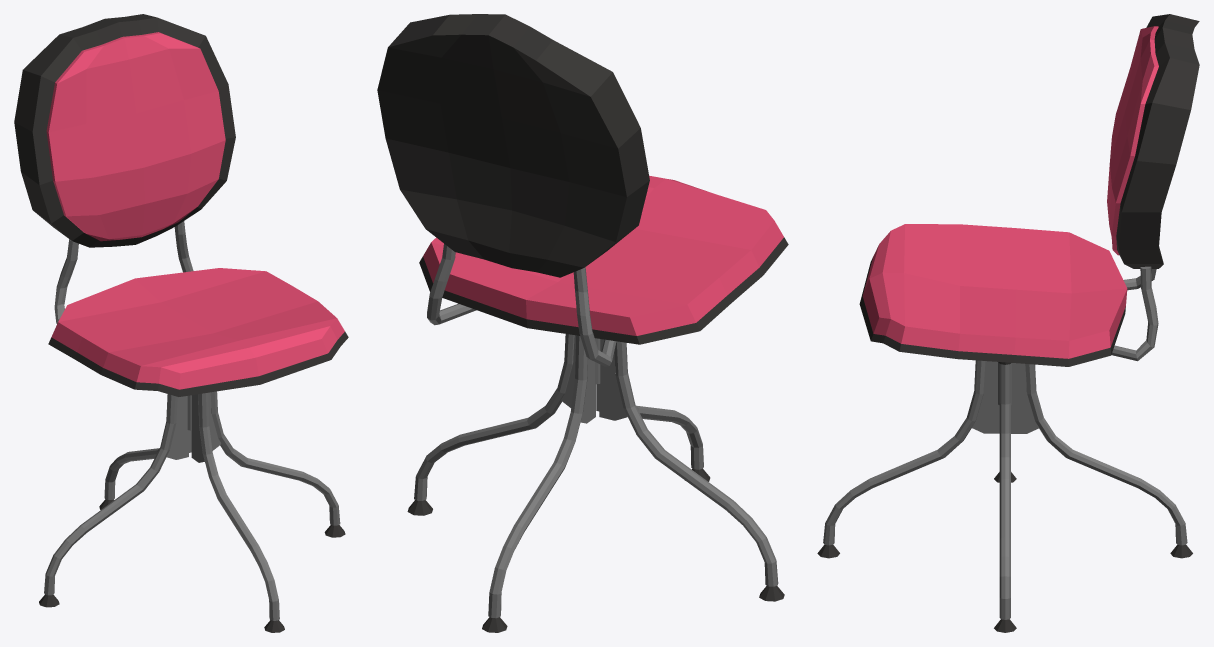
Rendered from chair_simpleMat.fbx.
3 renders of one model, left to right at view 1: azimuth 30°, elevation 25°; view 2: azimuth 150°, elevation 25°; view 3: azimuth 270°, elevation 25°, orthographic. The views are drawn at different scales.
Visible parts, largest first — view 1: Chair_back, Chair_body, Chair_floor_03, Chair_floor_04, Chair_floor_01, Chair_tubes, Chair_floor_02; view 2: Chair_back, Chair_body, Chair_floor_03, Chair_floor_02, Chair_floor_01, Chair_tubes, Chair_floor_04; view 3: Chair_body, Chair_back, Chair_floor_02, Chair_floor_04, Chair_floor_01, Chair_tubes.
Part boxes in pixels (left/top/right/bottom): Chair_back: left=14, top=14, right=235, bottom=247; Chair_body: left=48, top=268, right=348, bottom=396; Chair_floor_03: left=39, top=394, right=188, bottom=607; Chair_floor_04: left=191, top=393, right=284, bottom=632; Chair_floor_01: left=208, top=391, right=345, bottom=537; Chair_tubes: left=54, top=221, right=193, bottom=323; Chair_floor_02: left=99, top=430, right=191, bottom=509; Chair_back: left=377, top=14, right=649, bottom=277; Chair_body: left=419, top=175, right=788, bottom=344; Chair_floor_03: left=599, top=339, right=784, bottom=601; Chair_floor_02: left=482, top=335, right=595, bottom=632; Chair_floor_01: left=407, top=334, right=576, bottom=515; Chair_tubes: left=427, top=244, right=616, bottom=366; Chair_floor_04: left=596, top=384, right=710, bottom=481; Chair_body: left=859, top=224, right=1127, bottom=366; Chair_back: left=1107, top=14, right=1199, bottom=268; Chair_floor_02: left=1011, top=363, right=1192, bottom=558; Chair_floor_04: left=817, top=360, right=999, bottom=558; Chair_floor_01: left=994, top=362, right=1016, bottom=632; Chair_tubes: left=1111, top=266, right=1158, bottom=361.
Bounding box in the file's own units: 0.6 × 0.9262 × 0.6101.
